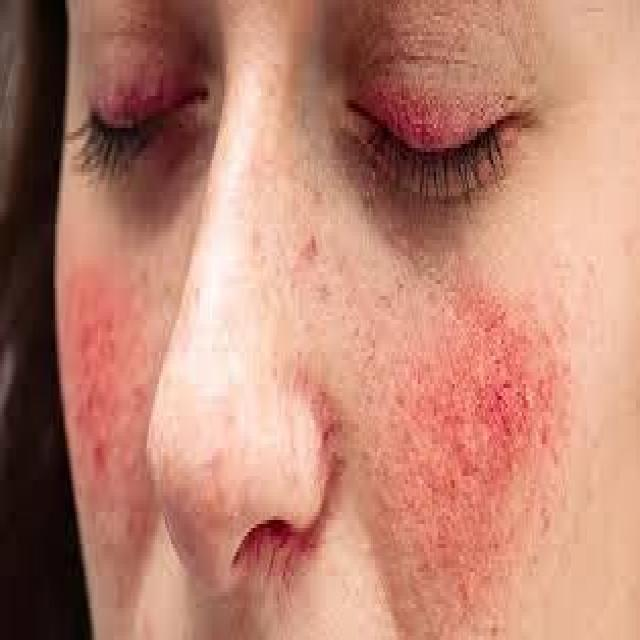Rosacea: (338, 250, 570, 568), (55, 248, 154, 490)
